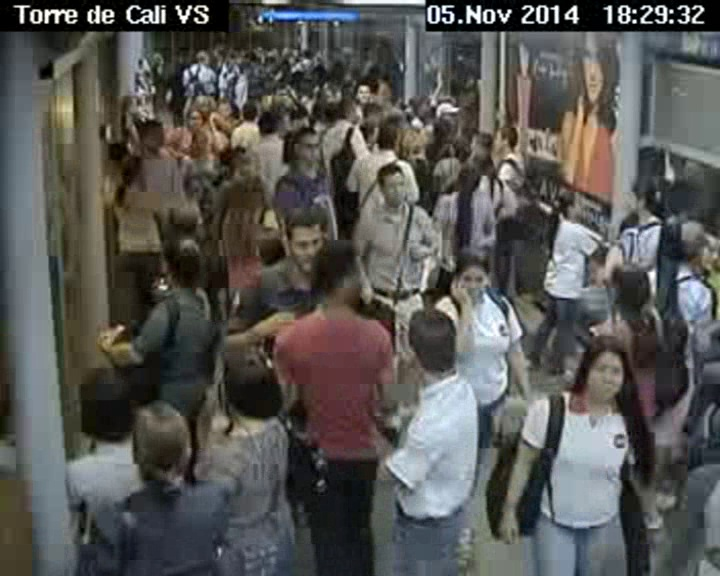person: (120, 400, 194, 489), (562, 325, 636, 411), (390, 303, 467, 382), (214, 353, 292, 429), (305, 236, 375, 313), (280, 202, 344, 277), (75, 358, 130, 434), (602, 255, 648, 322), (156, 233, 208, 292), (449, 246, 494, 313), (372, 164, 414, 212), (673, 218, 707, 269), (622, 179, 663, 219), (291, 125, 325, 163), (214, 147, 254, 176), (703, 213, 720, 281), (137, 120, 168, 156), (470, 126, 498, 163), (552, 189, 585, 220), (111, 156, 144, 186), (453, 160, 482, 193), (433, 99, 463, 129), (375, 115, 399, 151), (496, 122, 519, 157), (408, 90, 433, 120), (258, 111, 281, 143), (184, 131, 209, 156), (321, 101, 348, 124), (240, 100, 261, 125), (213, 98, 232, 122), (184, 105, 203, 128), (357, 81, 373, 105), (193, 47, 210, 67), (452, 137, 468, 155), (226, 58, 241, 75)
